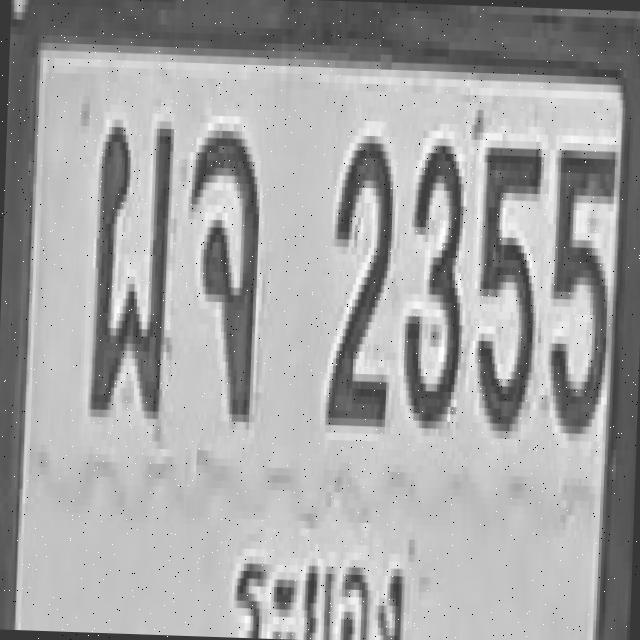17ChorChan: (184, 126, 262, 418)
2: (324, 134, 394, 426)
3: (400, 137, 467, 429)
37PhorPhueng: (89, 119, 172, 419)
5: (474, 140, 544, 432), (546, 142, 616, 434)
Rayong: (224, 517, 418, 640)
